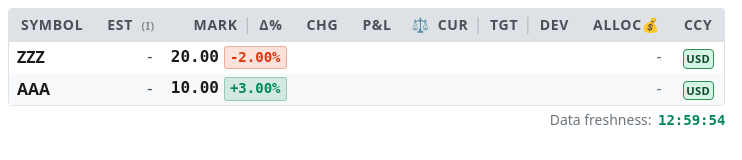
Test: stock table sorting › sorts the percentage change displayed inside the Mark column
The image size is (742, 160).
Step 1. Click the button named "Sort by daily percentage change descending" → (271, 25), box [255,13,286,37]
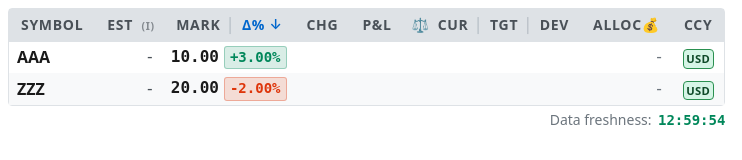
Expected: the button named "Sort by daily percentage change ascending" reads "Δ% ↓", [238,13,286,37]
